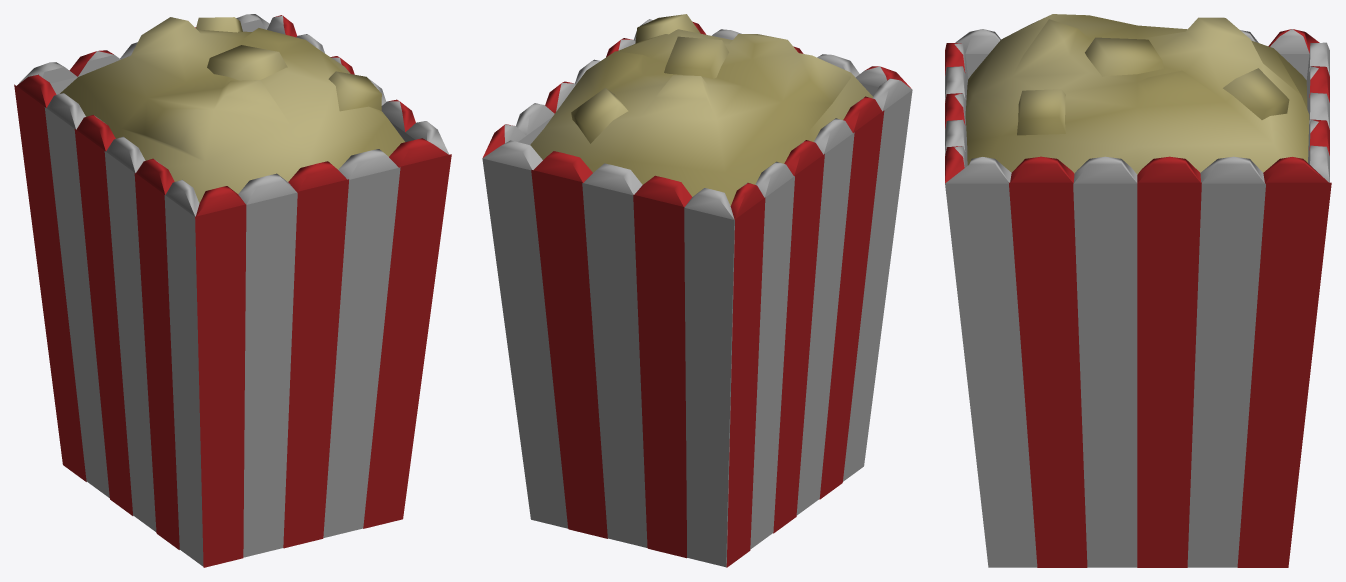
The model's file is grenade_popcornBucket.glb.
3 views of the same model, side by side, from view 1: azimuth 30°, elevation 25°; view 2: azimuth 150°, elevation 25°; view 3: azimuth 270°, elevation 25° (orthographic). The views are drawn at different scales.
Visible parts, largest first — view 1: grenade_popcornBucket; view 2: grenade_popcornBucket; view 3: grenade_popcornBucket.
Part boxes in pixels (<box>): grenade_popcornBucket: <box>14,14,451,567</box>; grenade_popcornBucket: <box>482,14,912,567</box>; grenade_popcornBucket: <box>945,14,1331,567</box>.
Size of the model in its own units: 0.0868 by 0.145 by 0.106.
